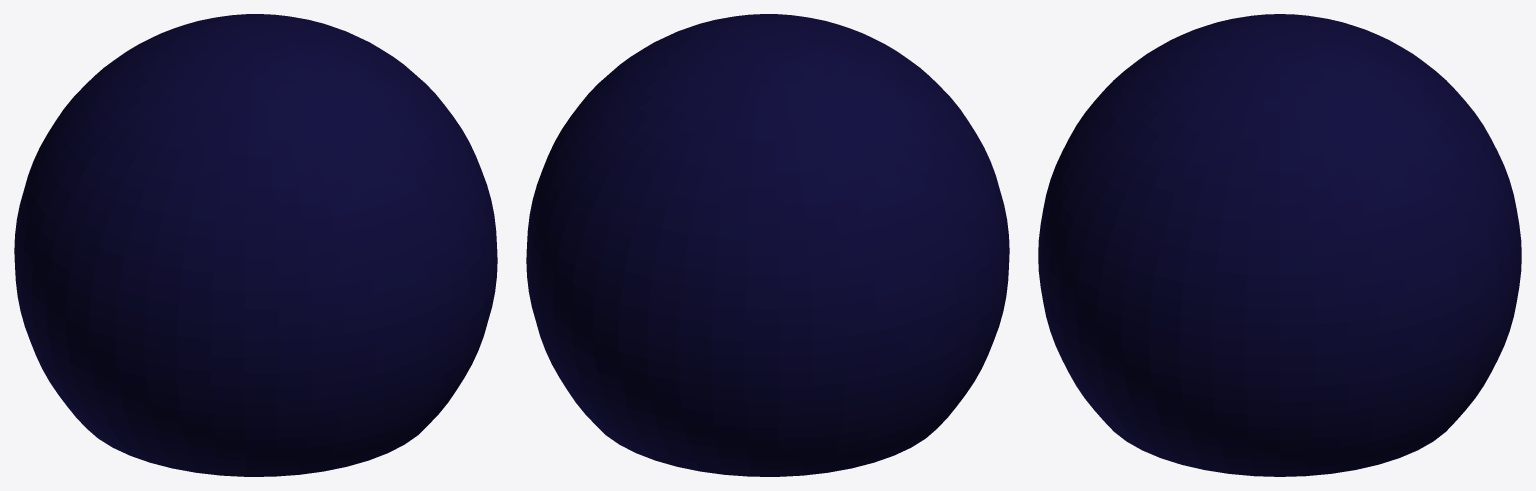
File: бльоб.dae
3 views of the same model, side by side, from view 1: azimuth 30°, elevation 25°; view 2: azimuth 150°, elevation 25°; view 3: azimuth 270°, elevation 25° (orthographic).
Parts seen in each view (by area): view 1: Sphere; view 2: Sphere; view 3: Sphere.
Part boxes in pixels (x1,y1,x2,y2): Sphere: [14, 14, 497, 476]; Sphere: [526, 14, 1009, 476]; Sphere: [1038, 14, 1521, 476].
Size of what is drawn, in the model's own units: 2 by 2 by 1.66.
